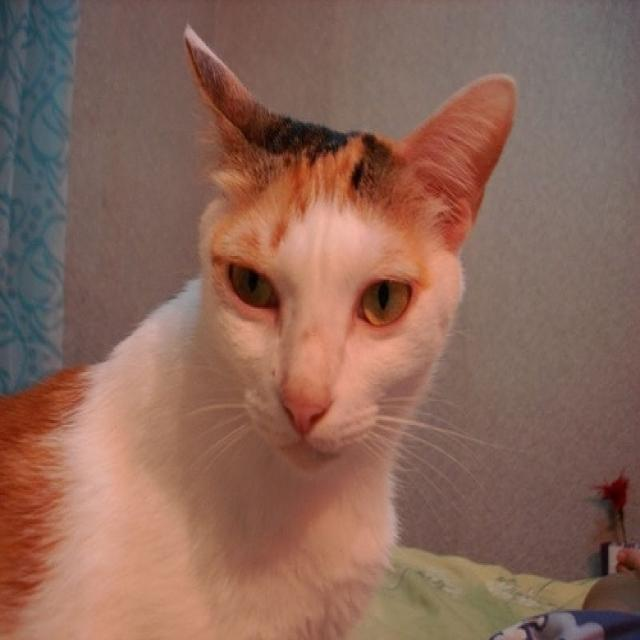Left_ear: (402, 72, 518, 244)
Left_eye: (358, 272, 411, 325)
Nouse: (281, 398, 325, 437)
Right_ear: (183, 24, 280, 192)
Right_eye: (223, 253, 281, 316)
